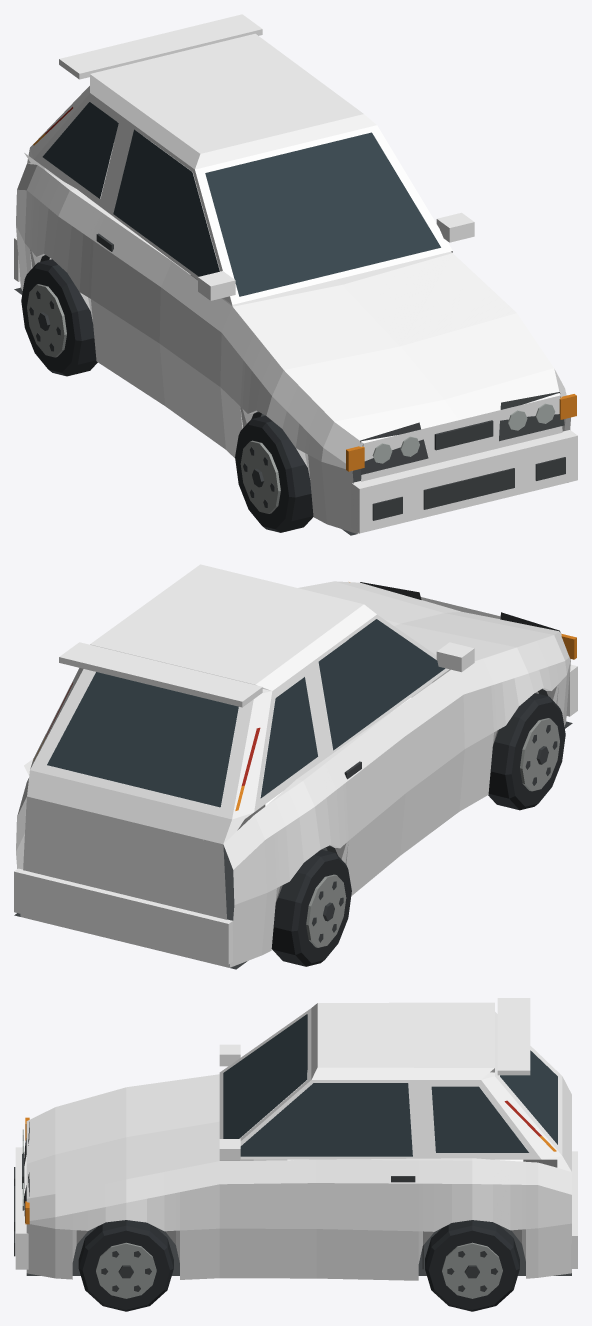
The model's file is tomoe_niji_s_98.glb.
3 views of the same model, one above another, from view 1: azimuth 30°, elevation 25°; view 2: azimuth 150°, elevation 25°; view 3: azimuth 270°, elevation 25° (orthographic). The views are drawn at different scales.
Visible parts, largest first — view 1: tomoe; view 2: tomoe; view 3: tomoe.
Boxes of the visible parts, x1=… form: tomoe: x1=14, y1=14, x2=577, y2=535; tomoe: x1=14, y1=564, x2=577, y2=969; tomoe: x1=14, y1=998, x2=577, y2=1311.
Size of the model in its own units: 1.55 by 1.43 by 3.26.
Materials: 8 (1 with a texture image).
